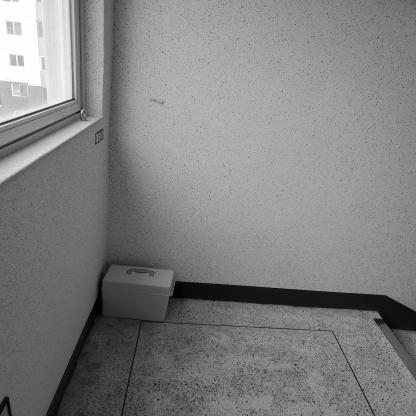DDL: (101, 264, 175, 322)
